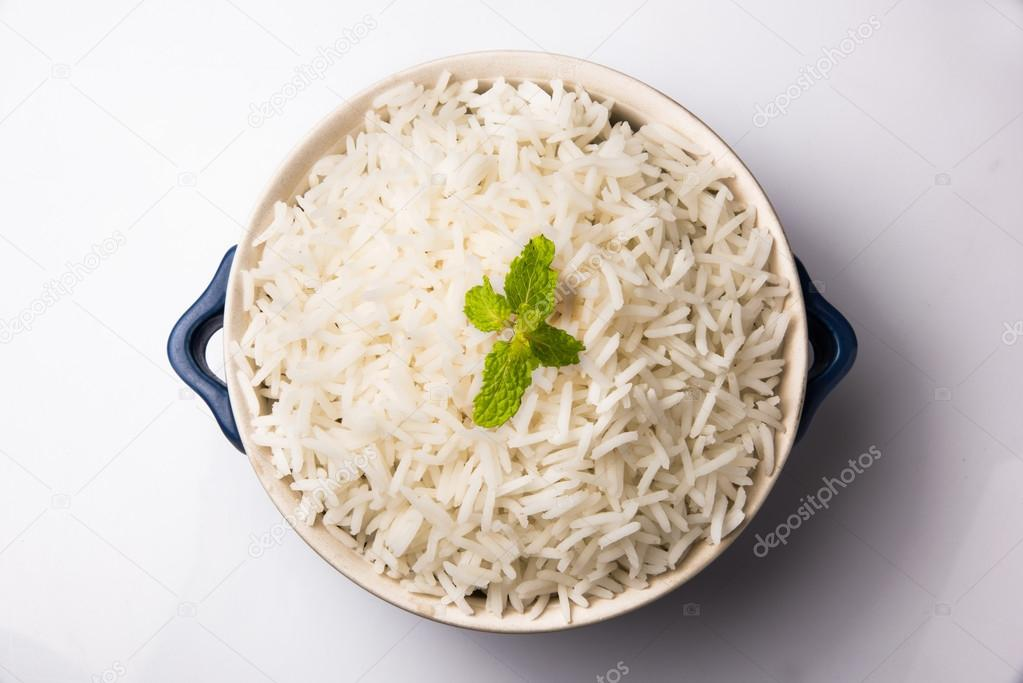plain rice: (334, 143, 699, 554)
